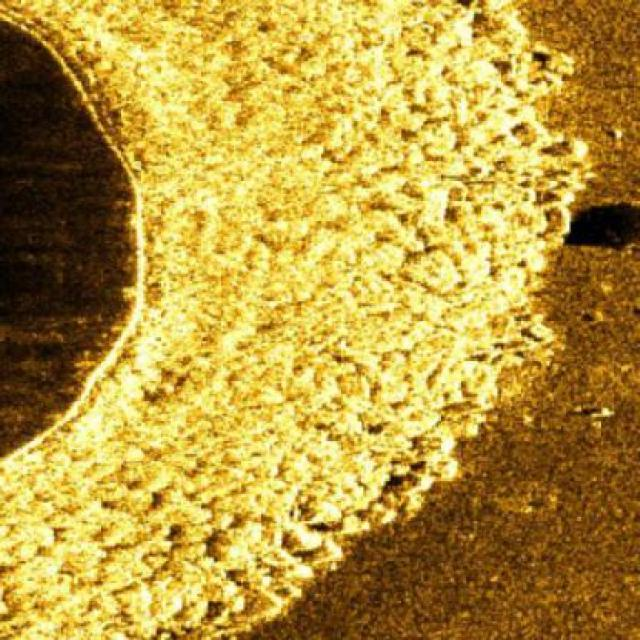bedrock group: (0, 0, 589, 638)
